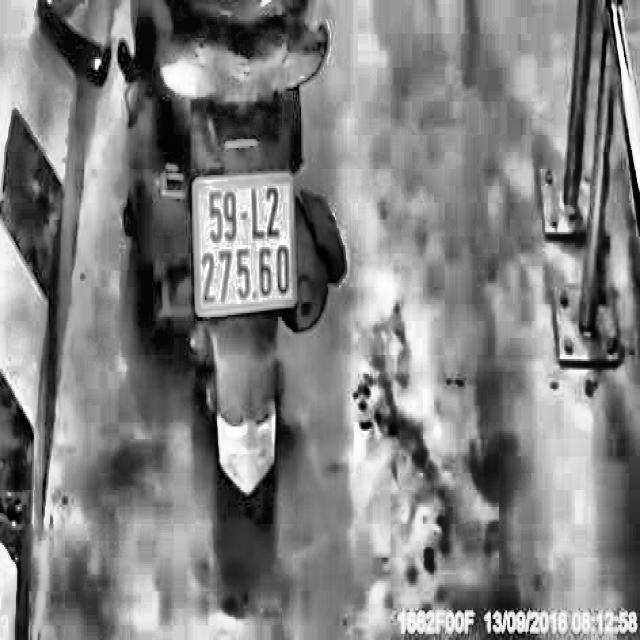plate: (188, 168, 302, 320)
